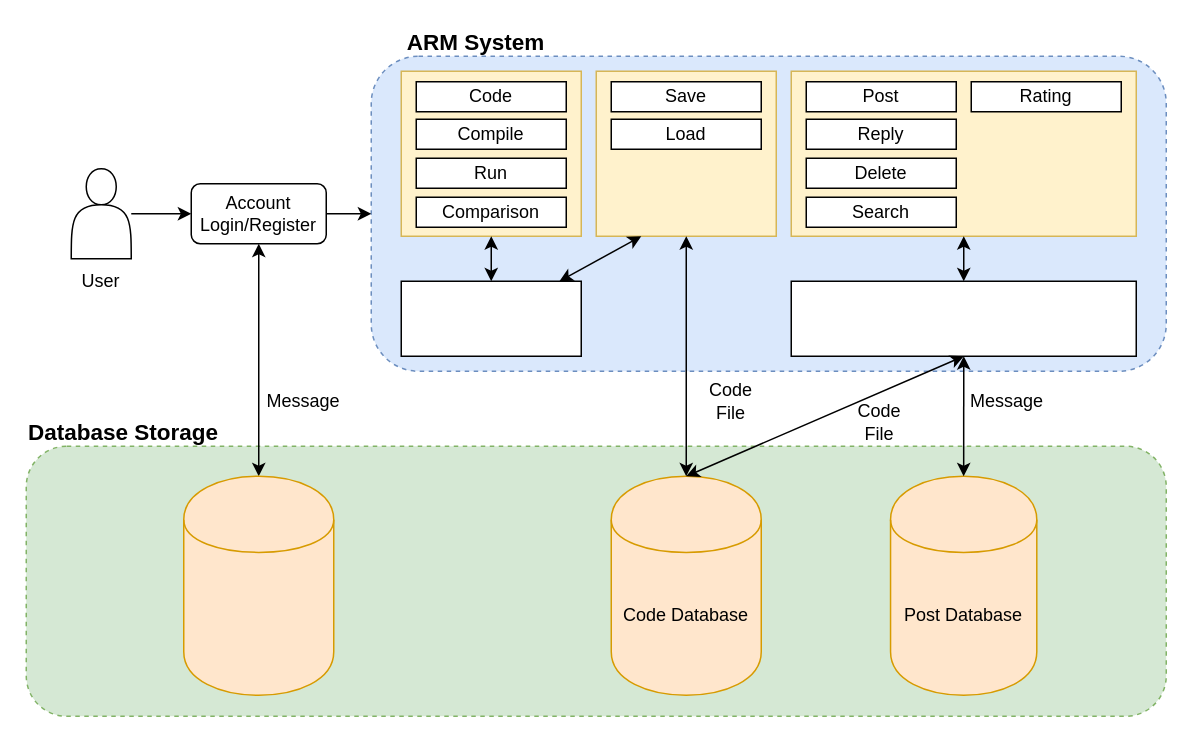
Some shapes in this 1193 by 743 pixel diagram are drawn without their labels. Each missing label, with the centre of its shape:
"Forum" belongs at point 963,318.
"Integrated Development Environment" belongs at point 490,318.
"User Account Database" belongs at point 258,585.
